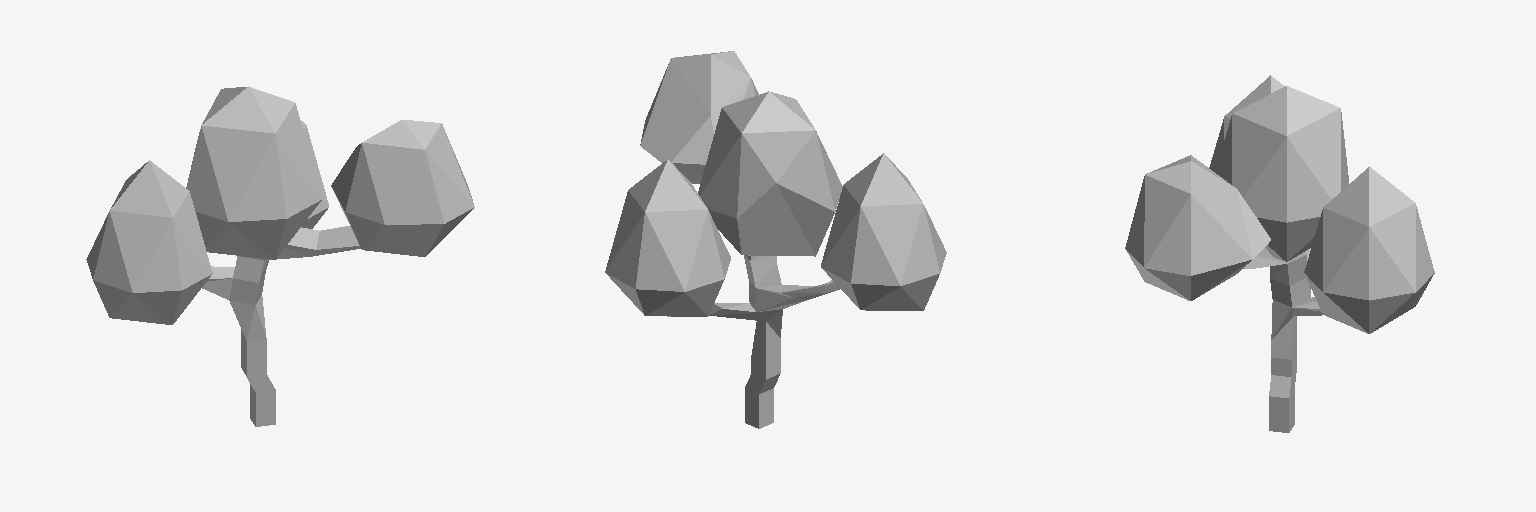
File: tree2.obj
The picture shows the model from 3 angles: view 1: azimuth 30°, elevation 25°; view 2: azimuth 150°, elevation 25°; view 3: azimuth 270°, elevation 25°; orthographic projection.
Visible parts, largest first — view 1: Tree_02_Mesh; view 2: Tree_02_Mesh; view 3: Tree_02_Mesh.
Boxes of the visible parts, <box> form: Tree_02_Mesh: <box>86,86,474,426</box>; Tree_02_Mesh: <box>605,51,946,428</box>; Tree_02_Mesh: <box>1125,75,1434,432</box>.
Bounding box in the file's own units: 89.68 × 85.93 × 71.75.